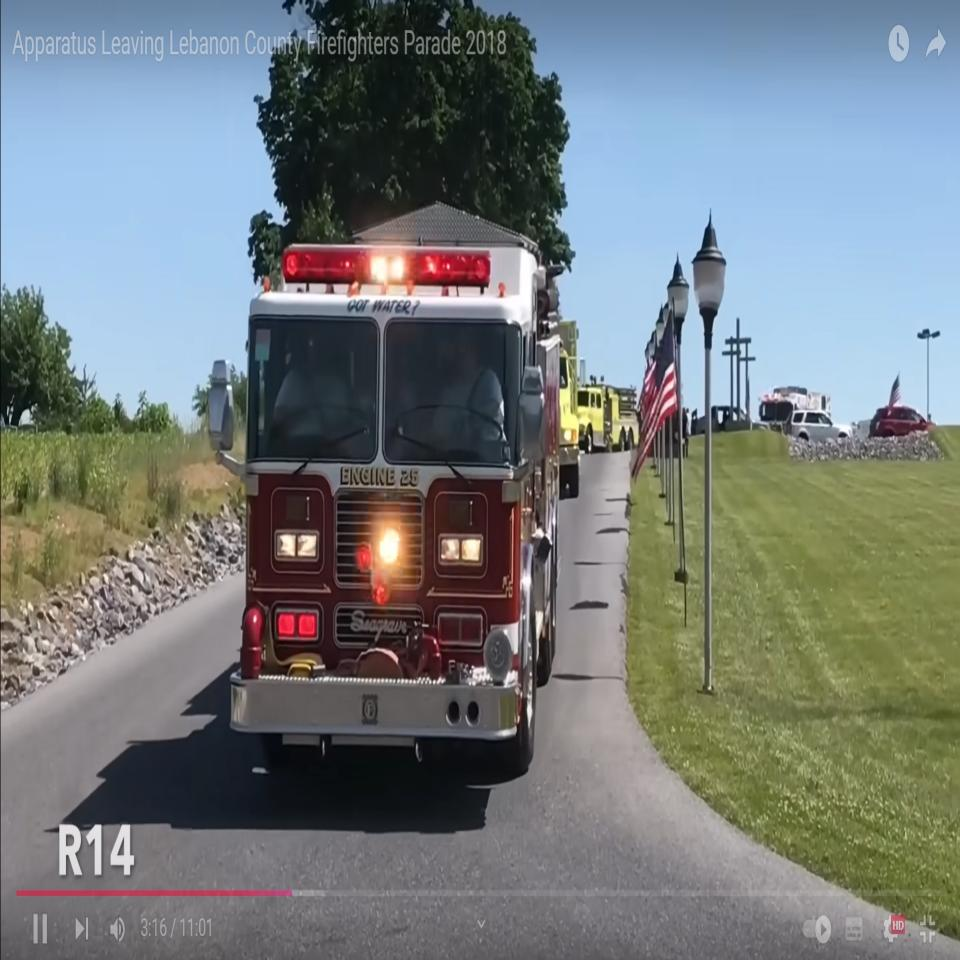viatura: (207, 241, 563, 786)
